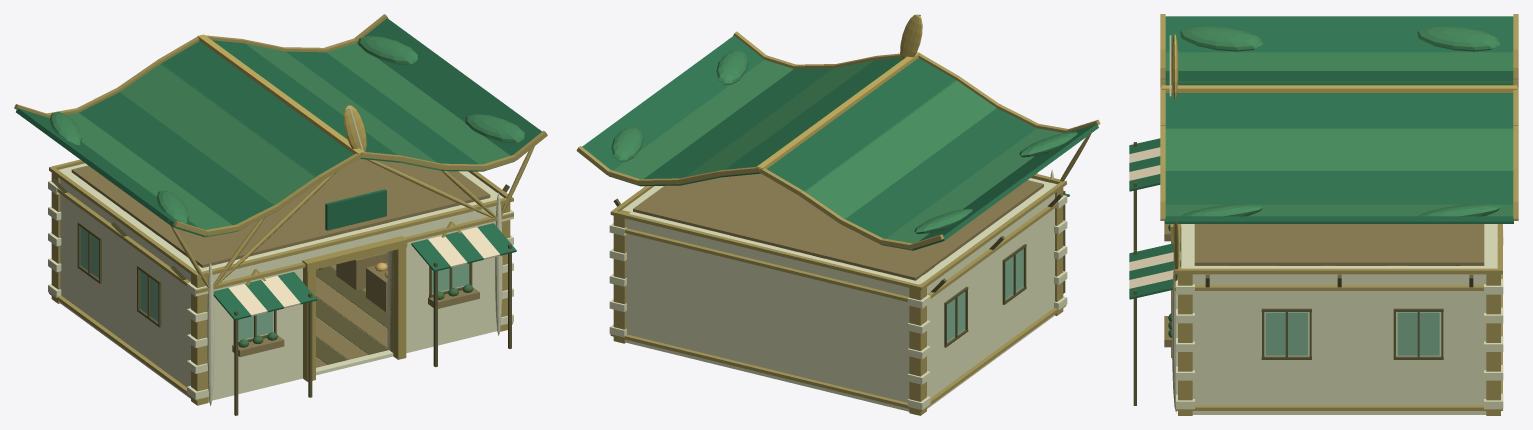
File: Market.glb
3 views of the same model, side by side, from view 1: azimuth 30°, elevation 25°; view 2: azimuth 150°, elevation 25°; view 3: azimuth 270°, elevation 25° (orthographic). The views are drawn at different scales.
Parts seen in each view (by area): view 1: Market_002_Side, Market_095_Ceiling, Market_272_ProfileRoof, Market_269_ProfileRoof, Market_275_ProfileRoof, Market_040_FrontWing, Market_003_FrontWing, Market_296_ProfileRoof, Market_293_ProfileRoof, Market_290_ProfileRoof, Market_278_ProfileRoof, Market_287_ProfileRoof (+51 smaller); view 2: Market_001_Rear, Market_095_Ceiling, Market_002_Side, Market_272_ProfileRoof, Market_269_ProfileRoof, Market_275_ProfileRoof, Market_296_ProfileRoof, Market_293_ProfileRoof, Market_290_ProfileRoof, Market_287_ProfileRoof, Market_278_ProfileRoof, Market_284_ProfileRoof (+19 smaller); view 3: Market_039_Side, Market_287_ProfileRoof, Market_284_ProfileRoof, Market_095_Ceiling, Market_290_ProfileRoof, Market_281_ProfileRoof, Market_278_ProfileRoof, Market_275_ProfileRoof, Market_293_ProfileRoof, Market_296_ProfileRoof, Market_299_Ridge, Market_088_SideCourse (+23 smaller).
Boxes of the visible parts, left/top/right/bottom form: Market_002_Side: left=59, top=169, right=205, bottom=398; Market_095_Ceiling: left=71, top=159, right=490, bottom=267; Market_272_ProfileRoof: left=120, top=63, right=315, bottom=205; Market_269_ProfileRoof: left=160, top=41, right=353, bottom=177; Market_275_ProfileRoof: left=79, top=92, right=276, bottom=231; Market_040_FrontWing: left=387, top=195, right=503, bottom=350; Market_003_FrontWing: left=200, top=243, right=310, bottom=398; Market_296_ProfileRoof: left=356, top=18, right=541, bottom=161; Market_293_ProfileRoof: left=326, top=43, right=514, bottom=171; Market_290_ProfileRoof: left=286, top=51, right=483, bottom=171; Market_278_ProfileRoof: left=49, top=112, right=236, bottom=237; Market_287_ProfileRoof: left=244, top=43, right=441, bottom=170; Market_001_Rear: left=626, top=212, right=922, bottom=411; Market_095_Ceiling: left=633, top=173, right=1043, bottom=280; Market_002_Side: left=913, top=182, right=1056, bottom=408; Market_272_ProfileRoof: left=804, top=80, right=996, bottom=218; Market_269_ProfileRoof: left=767, top=58, right=956, bottom=191; Market_275_ProfileRoof: left=843, top=108, right=1036, bottom=245; Market_296_ProfileRoof: left=582, top=35, right=764, bottom=176; Market_293_ProfileRoof: left=609, top=59, right=793, bottom=185; Market_290_ProfileRoof: left=640, top=68, right=833, bottom=186; Market_287_ProfileRoof: left=680, top=60, right=873, bottom=185; Market_278_ProfileRoof: left=883, top=128, right=1062, bottom=250; Market_284_ProfileRoof: left=720, top=57, right=901, bottom=177; Market_039_Side: left=1181, top=266, right=1497, bottom=414; Market_287_ProfileRoof: left=1165, top=128, right=1513, bottom=170; Market_284_ProfileRoof: left=1165, top=93, right=1513, bottom=128; Market_095_Ceiling: left=1194, top=224, right=1484, bottom=265; Market_290_ProfileRoof: left=1165, top=171, right=1513, bottom=204; Market_281_ProfileRoof: left=1165, top=16, right=1513, bottom=52; Market_278_ProfileRoof: left=1165, top=52, right=1513, bottom=70; Market_275_ProfileRoof: left=1165, top=71, right=1513, bottom=81; Market_293_ProfileRoof: left=1165, top=204, right=1513, bottom=216; Market_296_ProfileRoof: left=1165, top=216, right=1513, bottom=223; Market_299_Ridge: left=1161, top=85, right=1517, bottom=92; Market_088_SideCourse: left=1176, top=268, right=1502, bottom=274.
Bounding box in the file's own units: 36.28 × 24.92 × 29.56.
